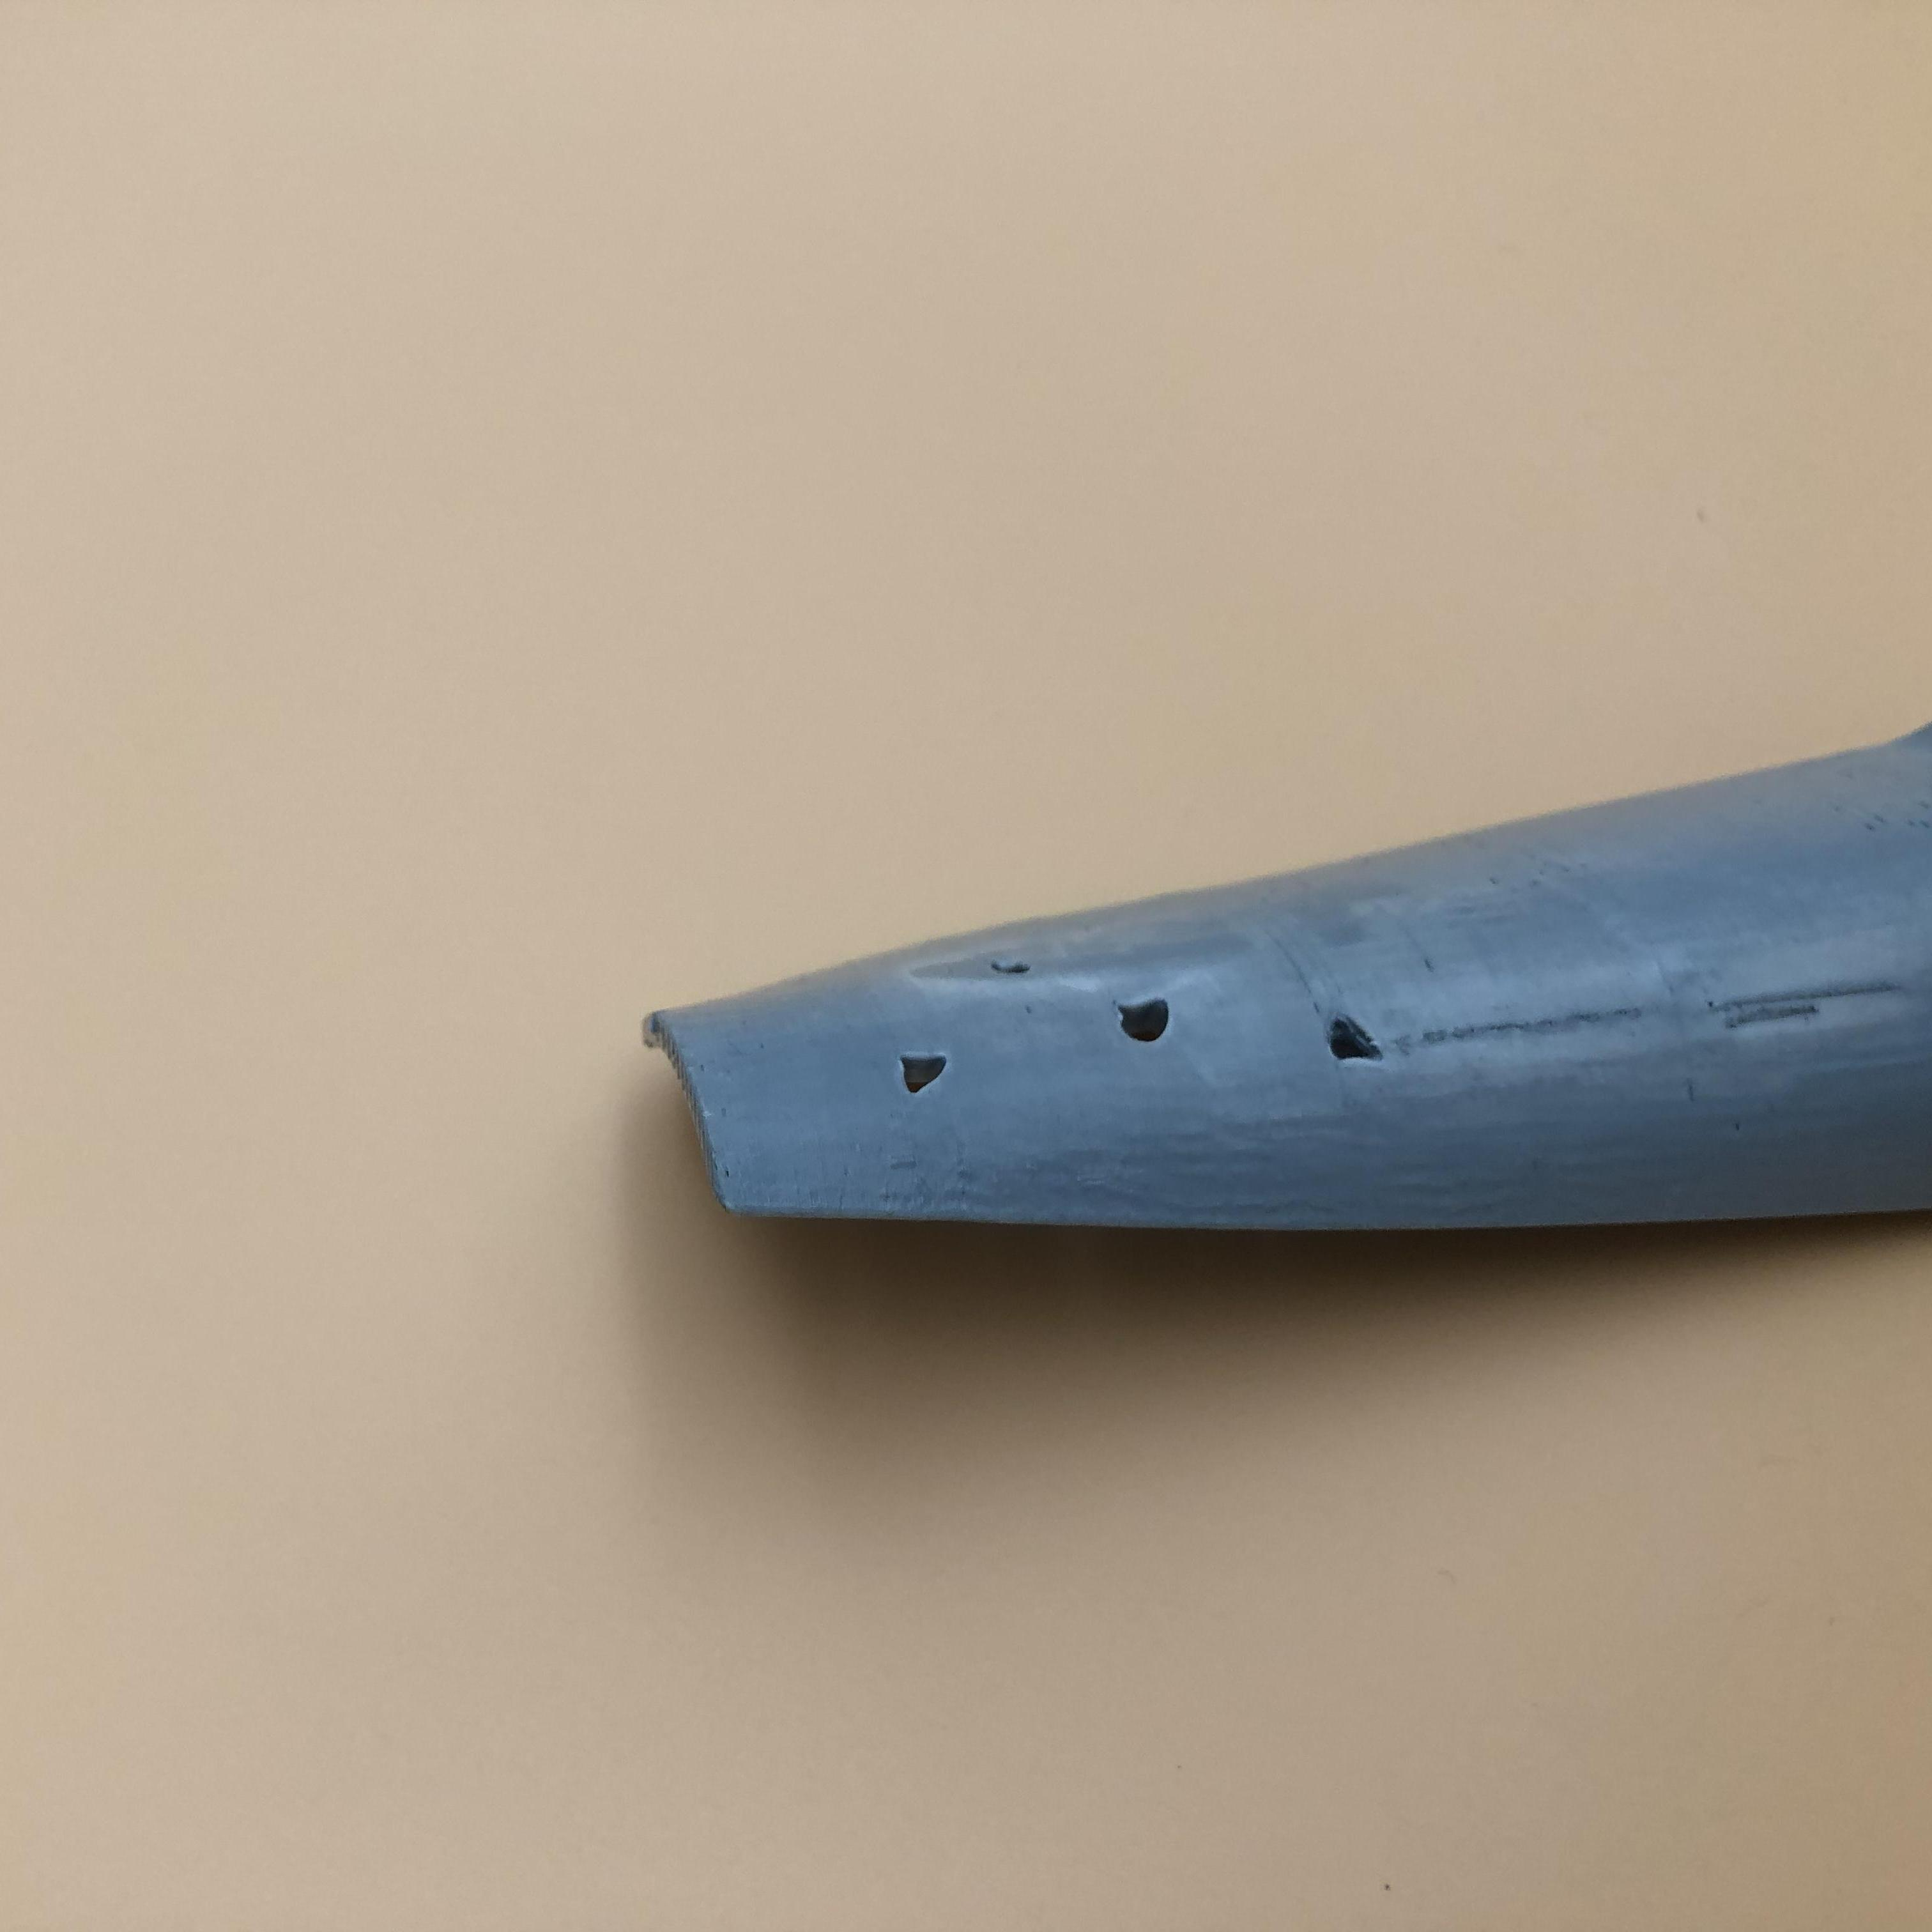breakdown: (1109, 985, 1396, 1072), (890, 1053, 961, 1099), (993, 939, 1053, 989)
